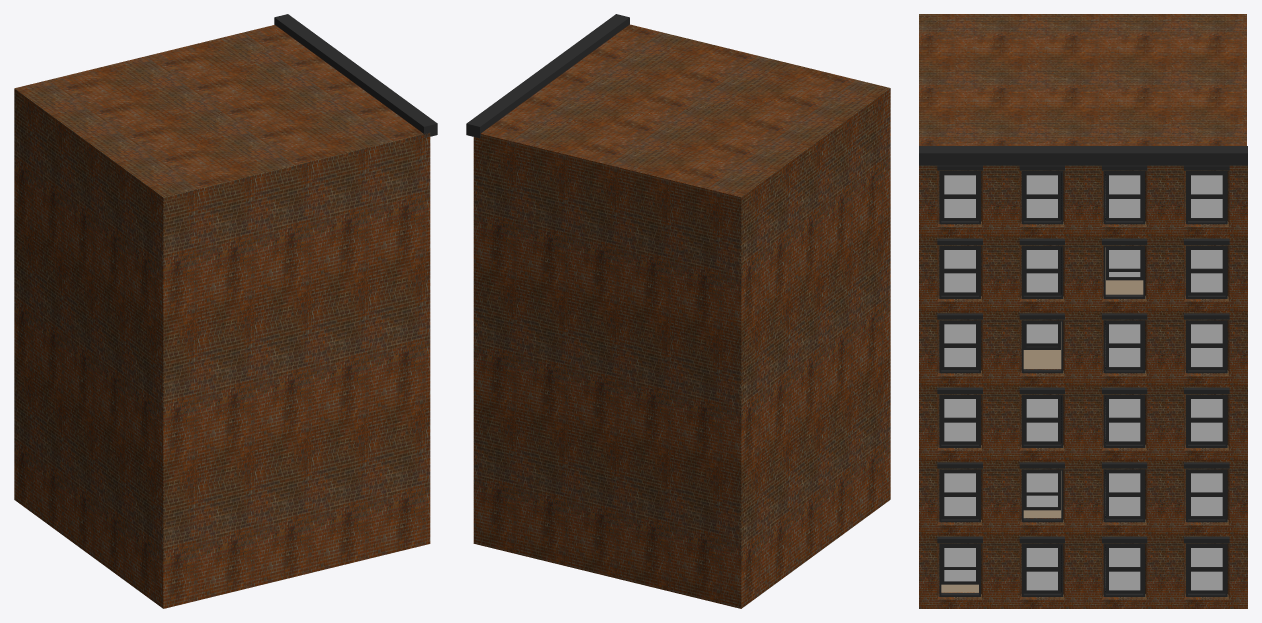
The model's file is Building1.fbx.
3 renders of one model, left to right at view 1: azimuth 30°, elevation 25°; view 2: azimuth 150°, elevation 25°; view 3: azimuth 270°, elevation 25°, orthographic. The views are drawn at different scales.
Parts seen in each view (by area): view 1: Building1; view 2: Building1; view 3: Building1.
Part boxes in pixels (box(x1,y1,x2,y2)): Building1: box(14, 14, 437, 608); Building1: box(466, 14, 890, 608); Building1: box(919, 14, 1247, 608).
Bounding box in the file's own units: 846 × 1234 × 800.
